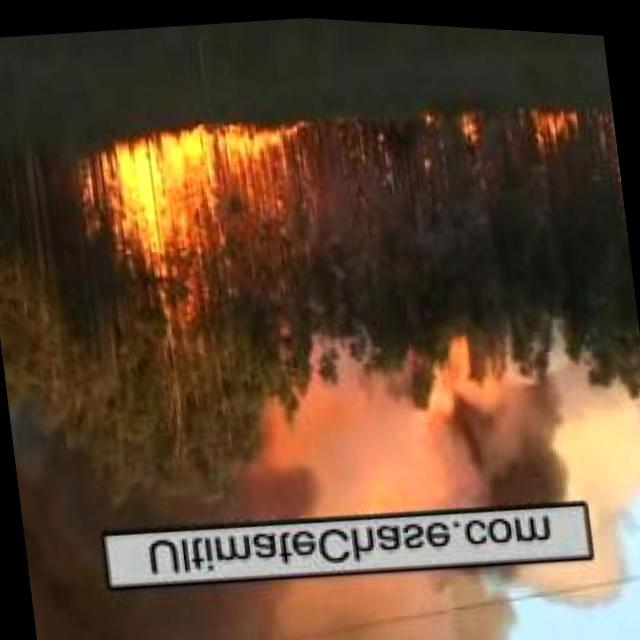fire: (96, 112, 320, 274), (529, 91, 587, 152), (455, 104, 489, 156)
